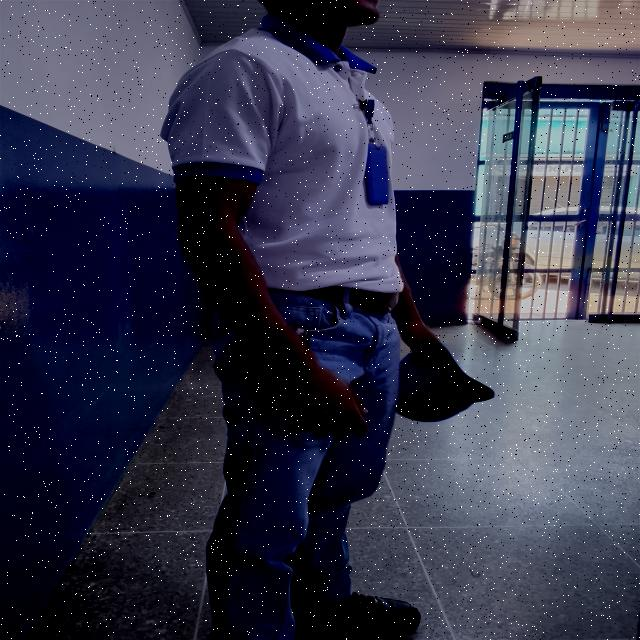carnet: (366, 143, 389, 204)
uniforme_superior: (159, 15, 405, 294)
